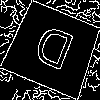D: (27, 24, 77, 81)
